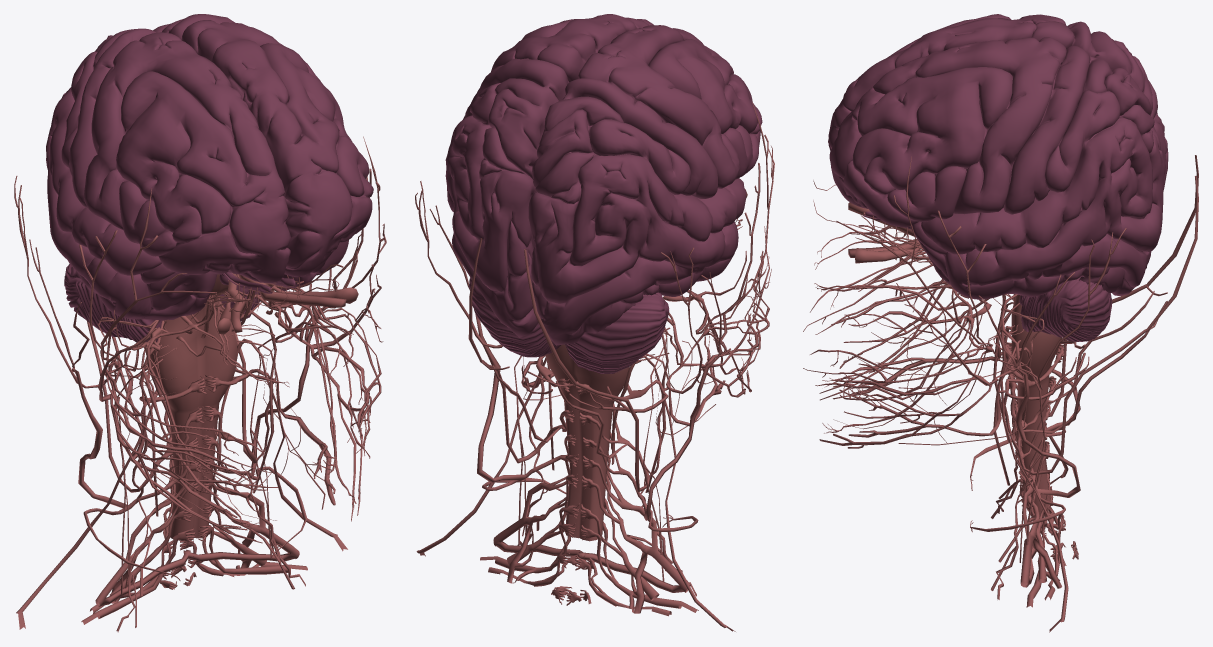
Rendered from woman_brain.glb.
The picture shows the model from 3 angles, left to right: view 1: azimuth 30°, elevation 25°; view 2: azimuth 150°, elevation 25°; view 3: azimuth 270°, elevation 25°; orthographic projection. The views are drawn at different scales.
Visible parts, largest first — view 1: brain, nerves; view 2: brain, nerves; view 3: brain, nerves.
Boxes of the visible parts, <box> form: brain: <box>46,14,373,342</box>; nerves: <box>14,136,386,632</box>; brain: <box>445,14,762,373</box>; nerves: <box>415,102,774,631</box>; brain: <box>828,14,1168,341</box>; nerves: <box>803,155,1198,632</box>.
Size of what is drawn, in the model's own units: 16.7 by 27.38 by 18.65.
